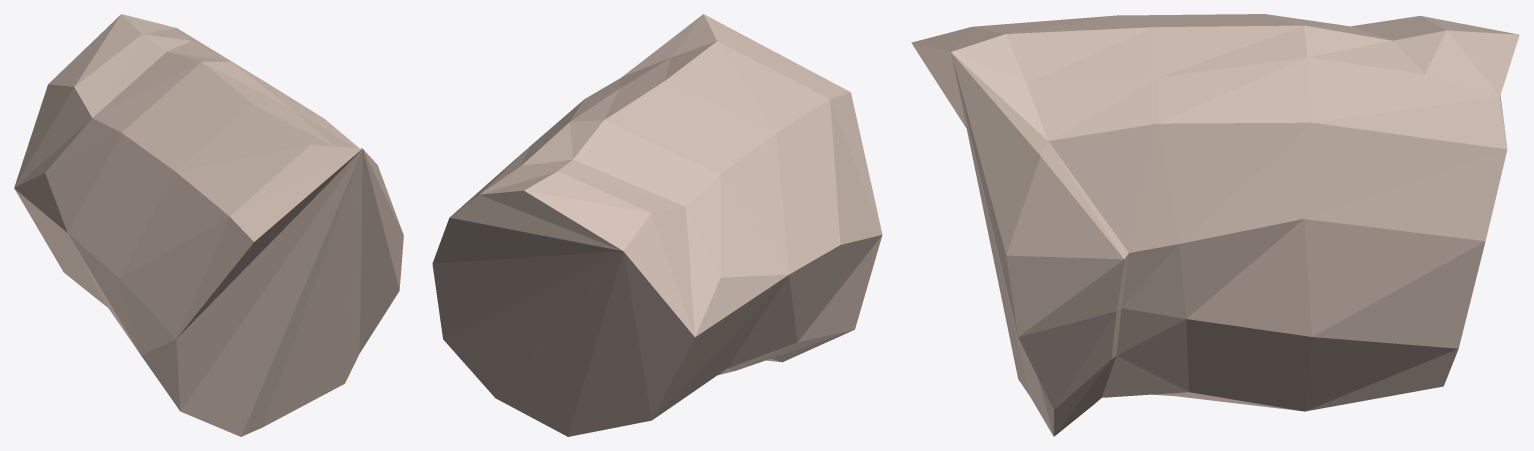
The model's file is LBaby1stPhalange.dae.
3 views of the same model, side by side, from view 1: azimuth 30°, elevation 25°; view 2: azimuth 150°, elevation 25°; view 3: azimuth 270°, elevation 25° (orthographic). The views are drawn at different scales.
Parts seen in each view (by area): view 1: ShapeIndexedFaceSet; view 2: ShapeIndexedFaceSet; view 3: ShapeIndexedFaceSet.
Boxes of the visible parts, bbox=[...] form: ShapeIndexedFaceSet: bbox=[14, 14, 403, 436]; ShapeIndexedFaceSet: bbox=[432, 14, 882, 436]; ShapeIndexedFaceSet: bbox=[911, 14, 1519, 436].
Size of the model in its own units: 0.0172 by 0.0256 by 0.0184.
